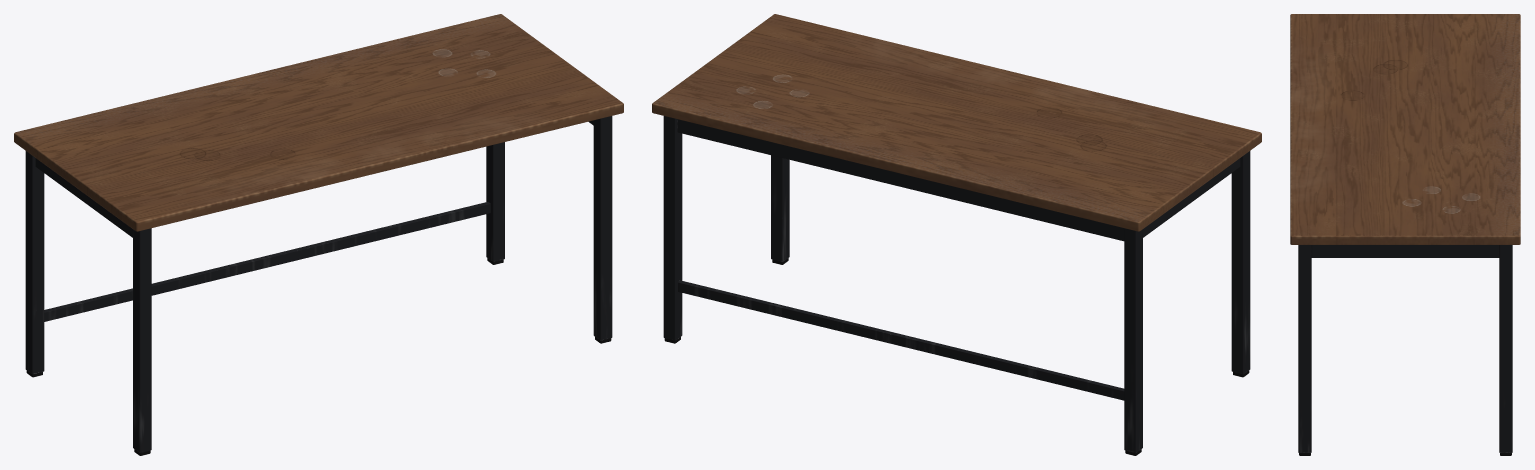
The model's file is SM_Desk.glb.
The picture shows the model from 3 angles, left to right: view 1: azimuth 30°, elevation 25°; view 2: azimuth 150°, elevation 25°; view 3: azimuth 270°, elevation 25°; orthographic projection. The views are drawn at different scales.
Visible parts, largest first — view 1: SM_Desk; view 2: SM_Desk; view 3: SM_Desk.
Part boxes in pixels (bbox=[...]): SM_Desk: bbox=[14, 14, 623, 455]; SM_Desk: bbox=[652, 14, 1261, 455]; SM_Desk: bbox=[1290, 14, 1520, 455].
Bounding box in the file's own units: 1.6 × 0.75 × 0.7.
3 materials, 3 textured.
